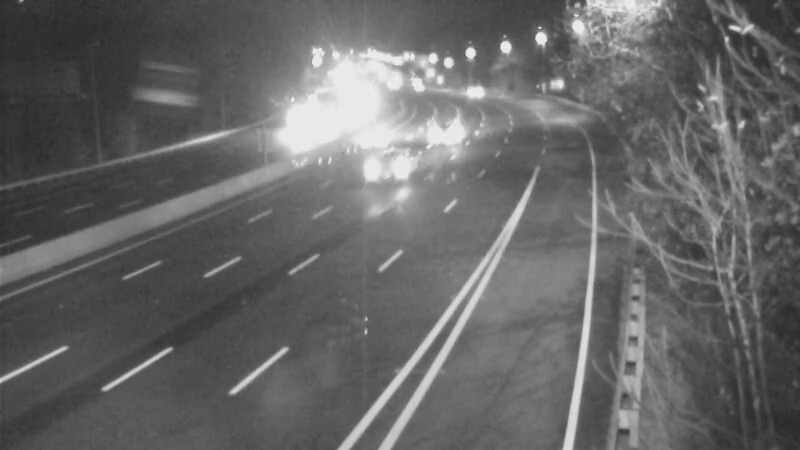vehicle: (352, 121, 432, 201), (385, 55, 435, 105), (366, 60, 416, 110), (387, 63, 437, 113), (451, 68, 501, 118), (418, 102, 468, 152), (352, 114, 402, 164), (271, 100, 321, 150)
